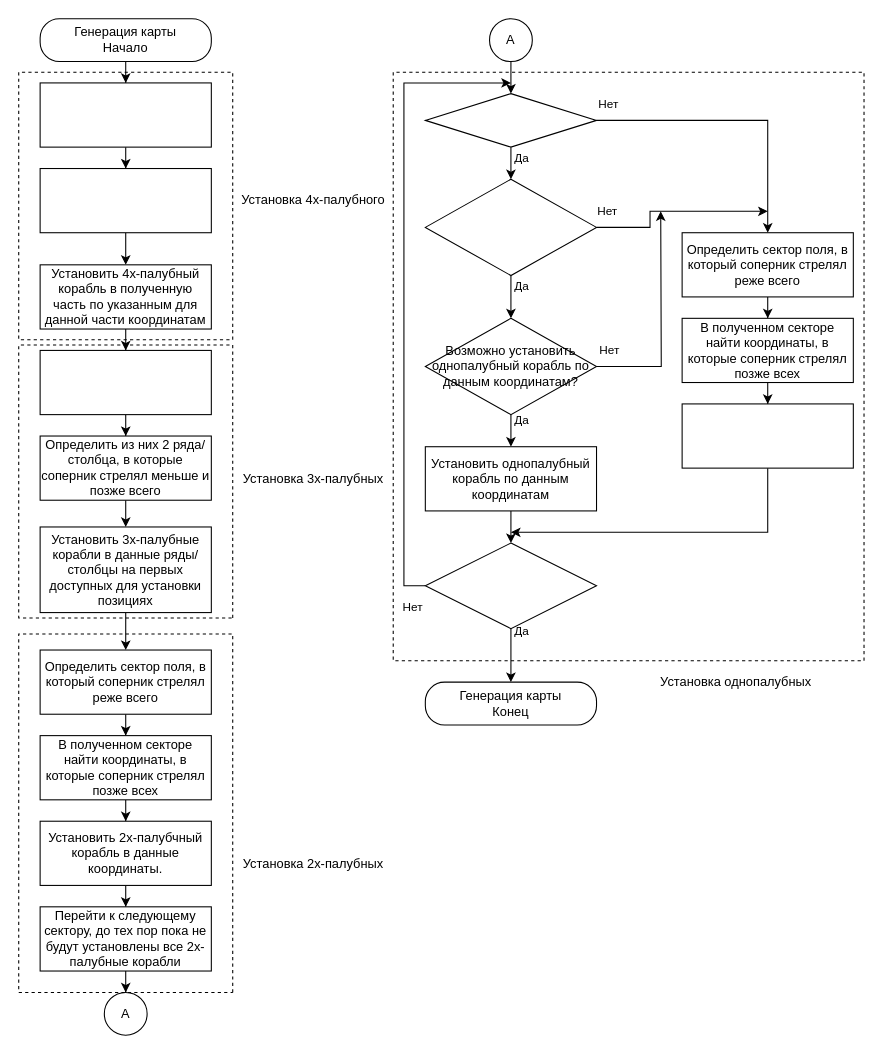
This 884x1054 diagram has some shape labels left out. The box of each missing label's shape, as (x1, y1, x2, y2) in pixels:
Есть координаты, по которым соперник ни разу не стрелял за все пред. сеты?: (424, 178, 597, 276)
Определить в какую из этих частей соперник стрелял меньше и позже всего: (39, 167, 211, 233)
Проанализировать каждый крайний ряд/столбец поля: (39, 349, 211, 415)
Прошло 5 сетов?: (424, 93, 597, 147)
Разделить каждый крайний ряд/столбец поля пополам: (39, 82, 211, 147)
Установить однопалубчный корабль в данные координаты.: (681, 403, 853, 468)
Установлено 4 однопалубных корабля?: (424, 542, 597, 629)
